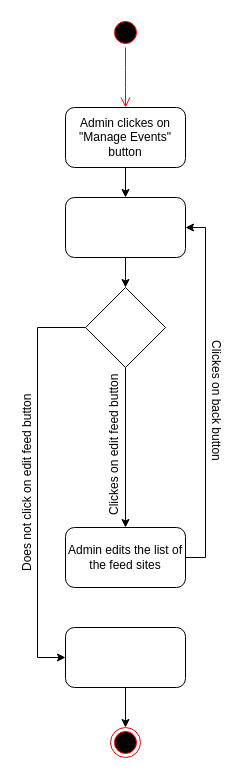
Some shapes in this 243 by 775 pixel diagram are drawn without their labels. The shapes that lost their labels are listed below. From the top down, each one's box as (x1, y1, x2, y2) in pixels, then its label:
(64, 196, 186, 258): Admin sees the list of current events
(64, 626, 186, 688): Clickes on submit button.
